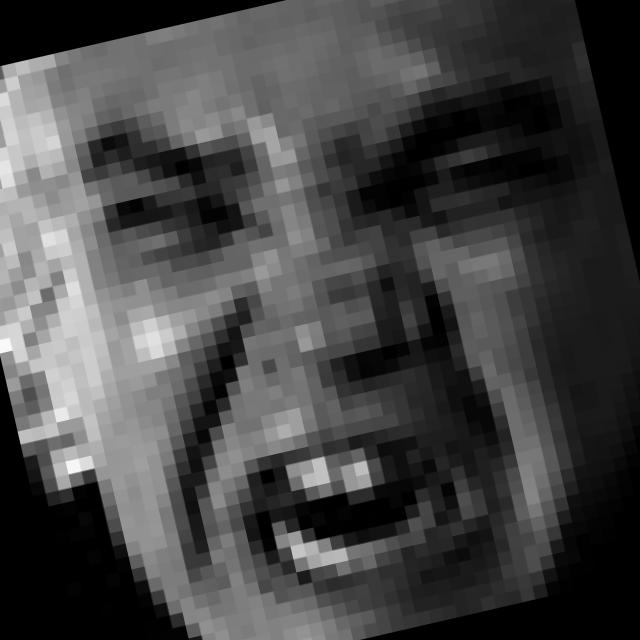angry: (65, 27, 640, 640)
